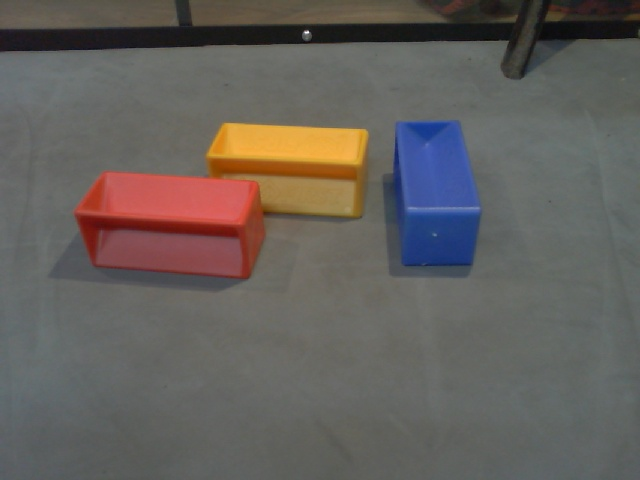BlueSample: (388, 116, 484, 271)
RedSample: (71, 168, 270, 286)
YellowSample: (206, 118, 372, 224)
